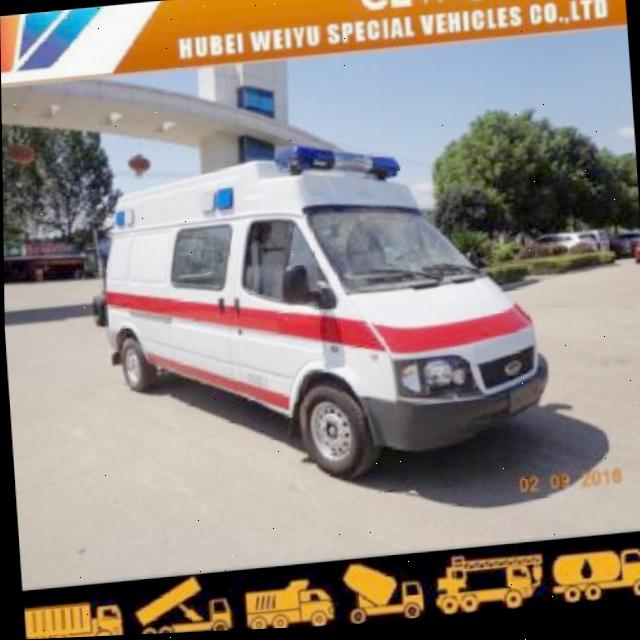emergency: (81, 126, 553, 505)
